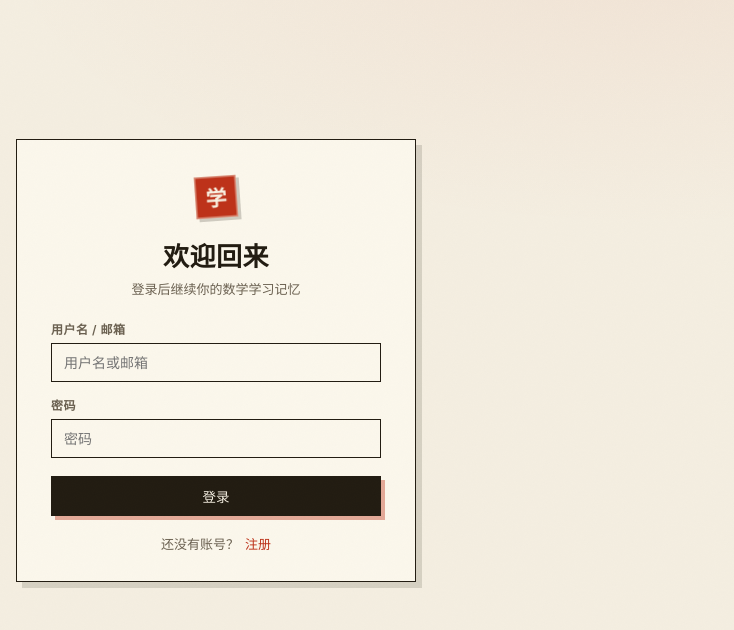
登录/注册表单 › 登录失败展示服务端错误信息
Check: the button "登录" is shown, box [51,476,381,516]
In the field labelled "用户名 / 邮箱": {"x": 216, "y": 362} [51,342,381,382], type "alice01"
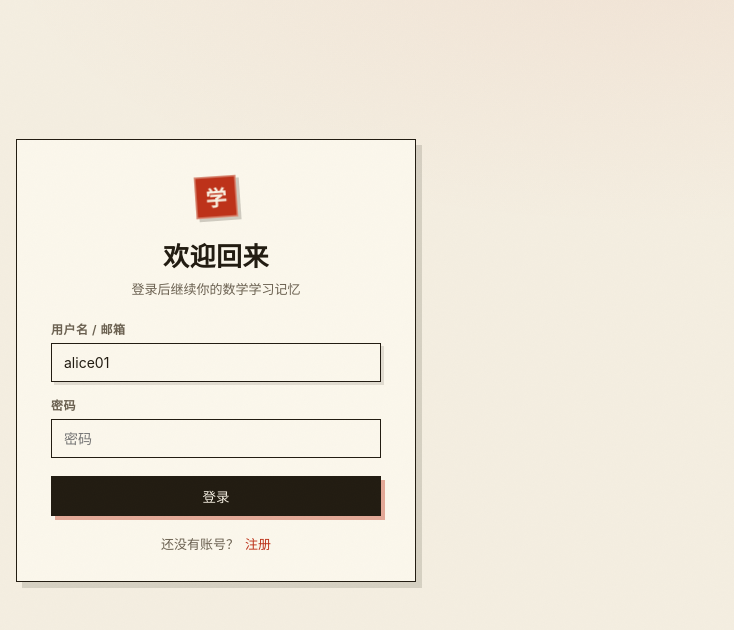
In the password field labelled "密码": {"x": 216, "y": 438} [51,418,381,458], type "wrong-password"
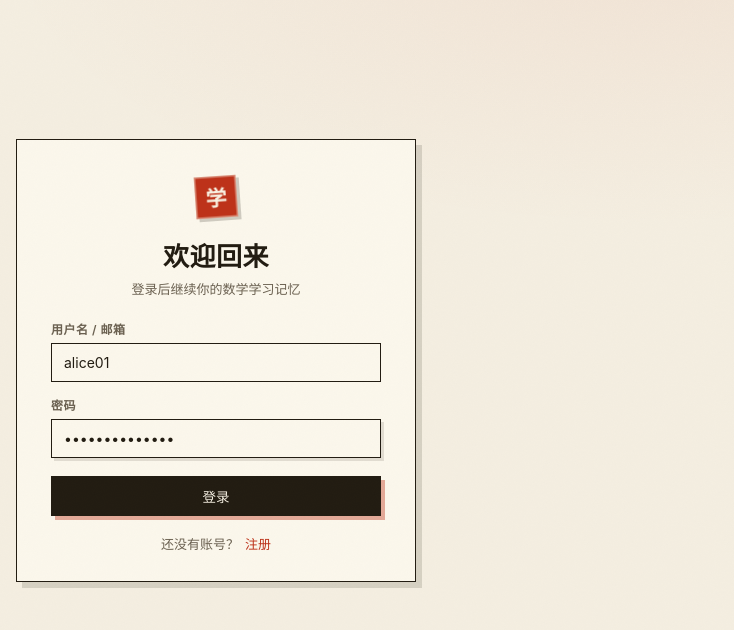
Click the button "登录": {"x": 216, "y": 496} [51,476,381,516]
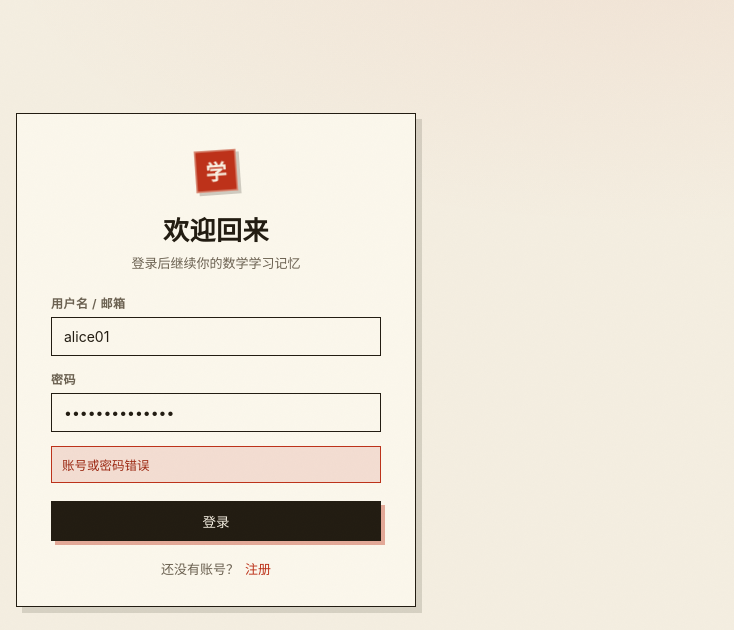
Check: the text "账号或密码错误" is shown, box [51,446,381,483]
